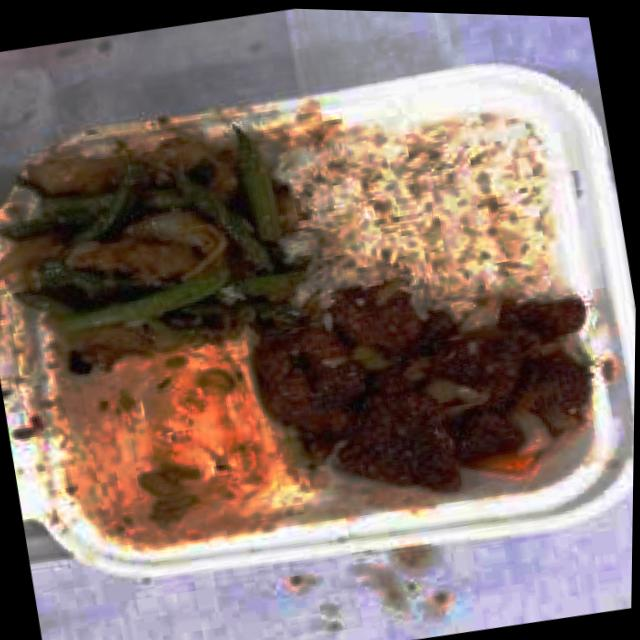Beijing Beef: (254, 267, 593, 526)
String Bean Chicken Breast: (0, 121, 297, 367)
rice: (270, 67, 560, 315)
